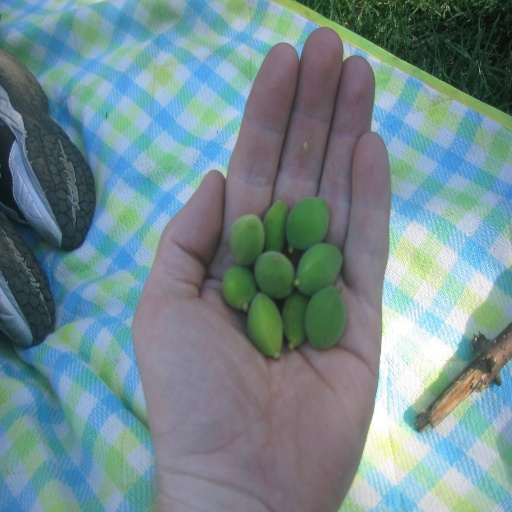hand: (128, 26, 391, 511)
